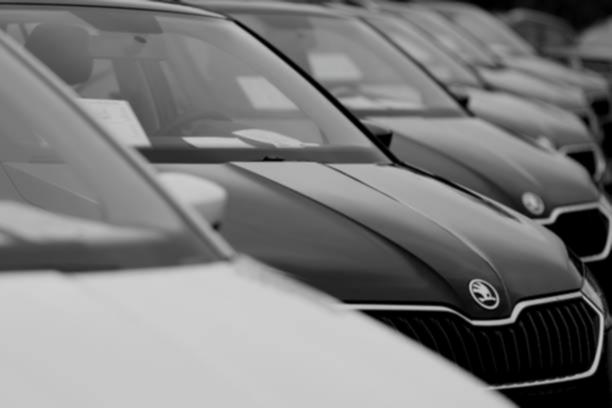skoda: (461, 273, 508, 317), (516, 186, 555, 221)
